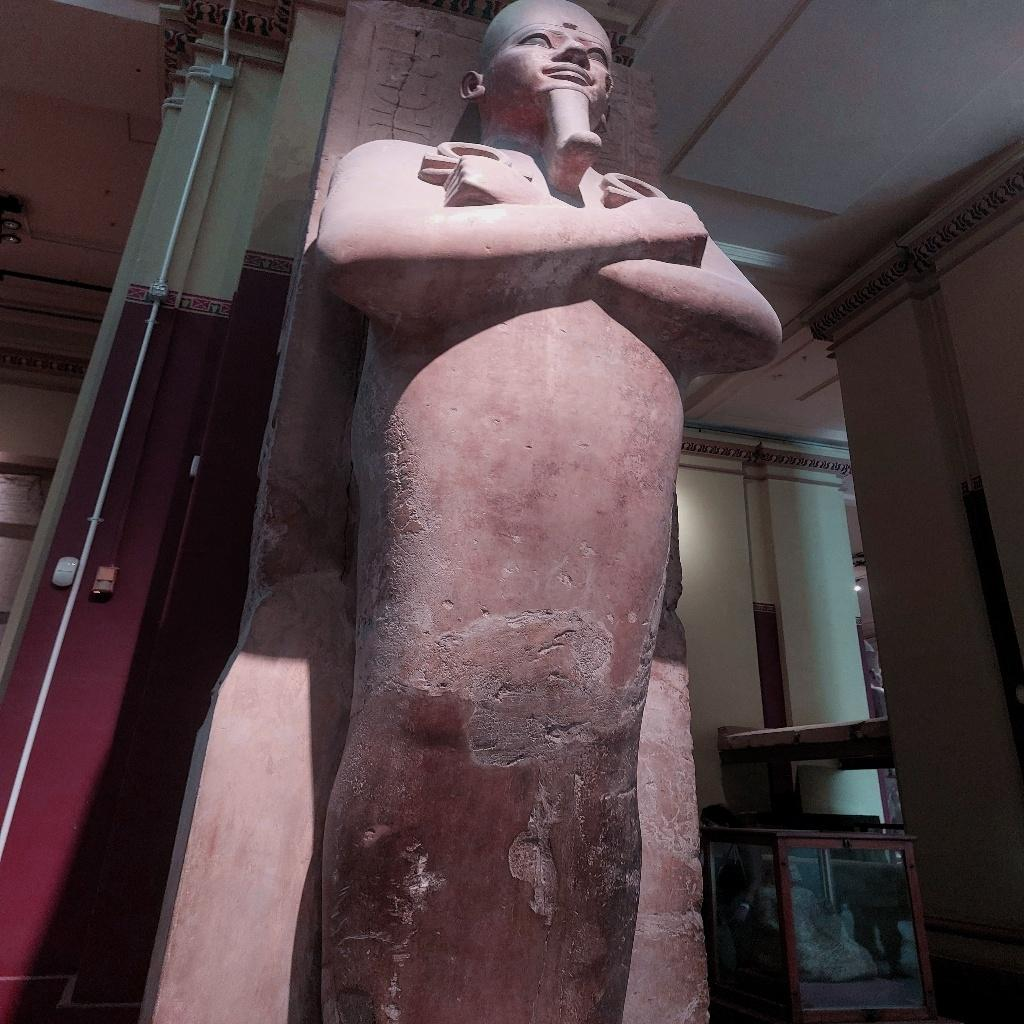Colossus of Senuseret I: (290, 0, 794, 1014)
